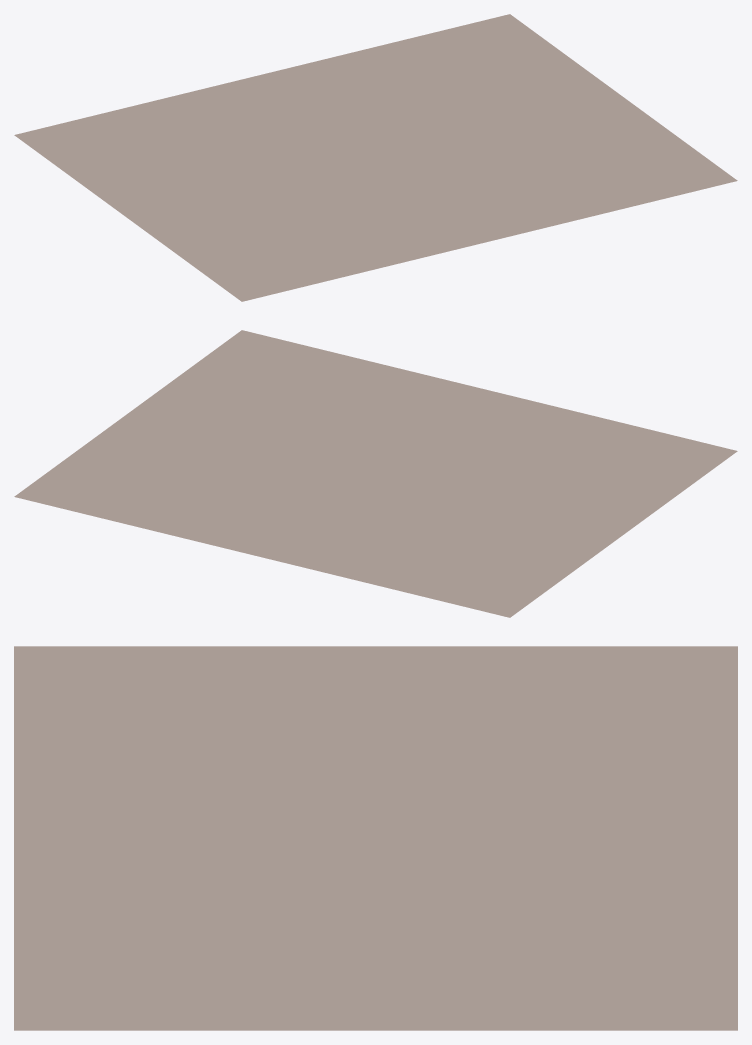
File: TRANNHATHUONG.fbx
3 renders of one model, top to bottom at view 1: azimuth 30°, elevation 25°; view 2: azimuth 150°, elevation 25°; view 3: azimuth 270°, elevation 25°, orthographic. The views are drawn at different scales.
Parts seen in each view (by area): view 1: TRANNHATHUONG; view 2: TRANNHATHUONG; view 3: TRANNHATHUONG.
Boxes of the visible parts, <box> form: TRANNHATHUONG: <box>14,14,737,301</box>; TRANNHATHUONG: <box>14,330,737,617</box>; TRANNHATHUONG: <box>14,646,737,1030</box>.
Bounding box in the file's own units: 3920 × 0.5891 × 3120.
